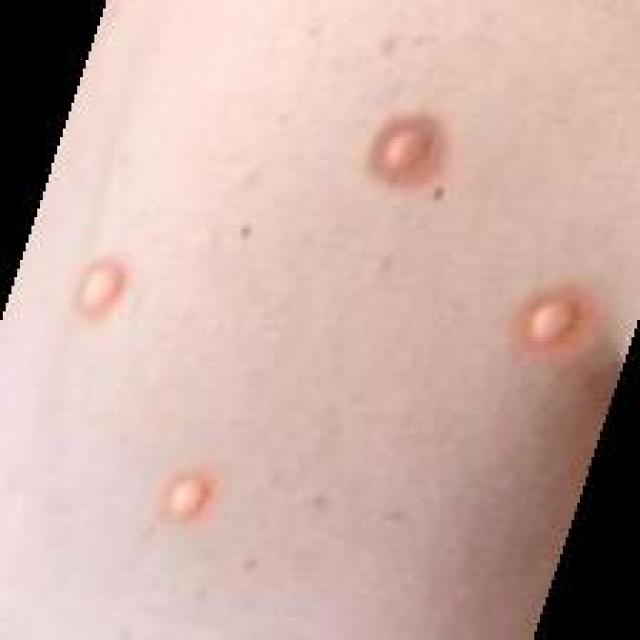monkeypox: (27, 53, 601, 640)
